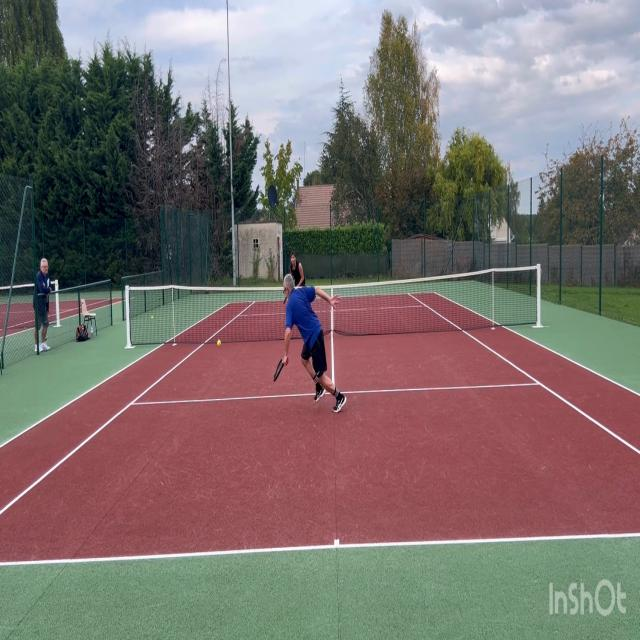ball: (216, 339, 222, 346), (151, 316, 153, 320)
